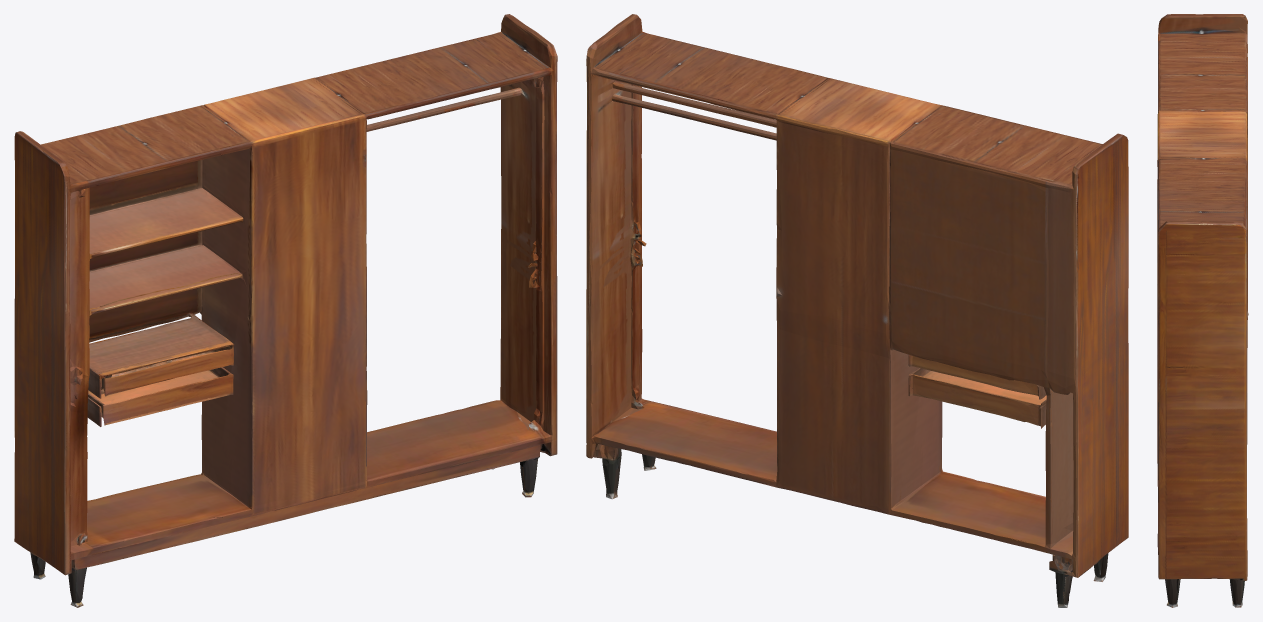
The model's file is шкаф_0530164030_texture.fbx.
3 renders of one model, left to right at view 1: azimuth 30°, elevation 25°; view 2: azimuth 150°, elevation 25°; view 3: azimuth 270°, elevation 25°, orthographic. The views are drawn at different scales.
Parts seen in each view (by area): view 1: temp; view 2: temp; view 3: temp.
Part boxes in pixels (x1,y1,x2,y2): temp: [14, 14, 557, 607]; temp: [586, 14, 1128, 607]; temp: [1157, 14, 1248, 607].
Size of the model in its own units: 200 by 174 by 36.78.
Materials: 1 (1 with a texture image).
